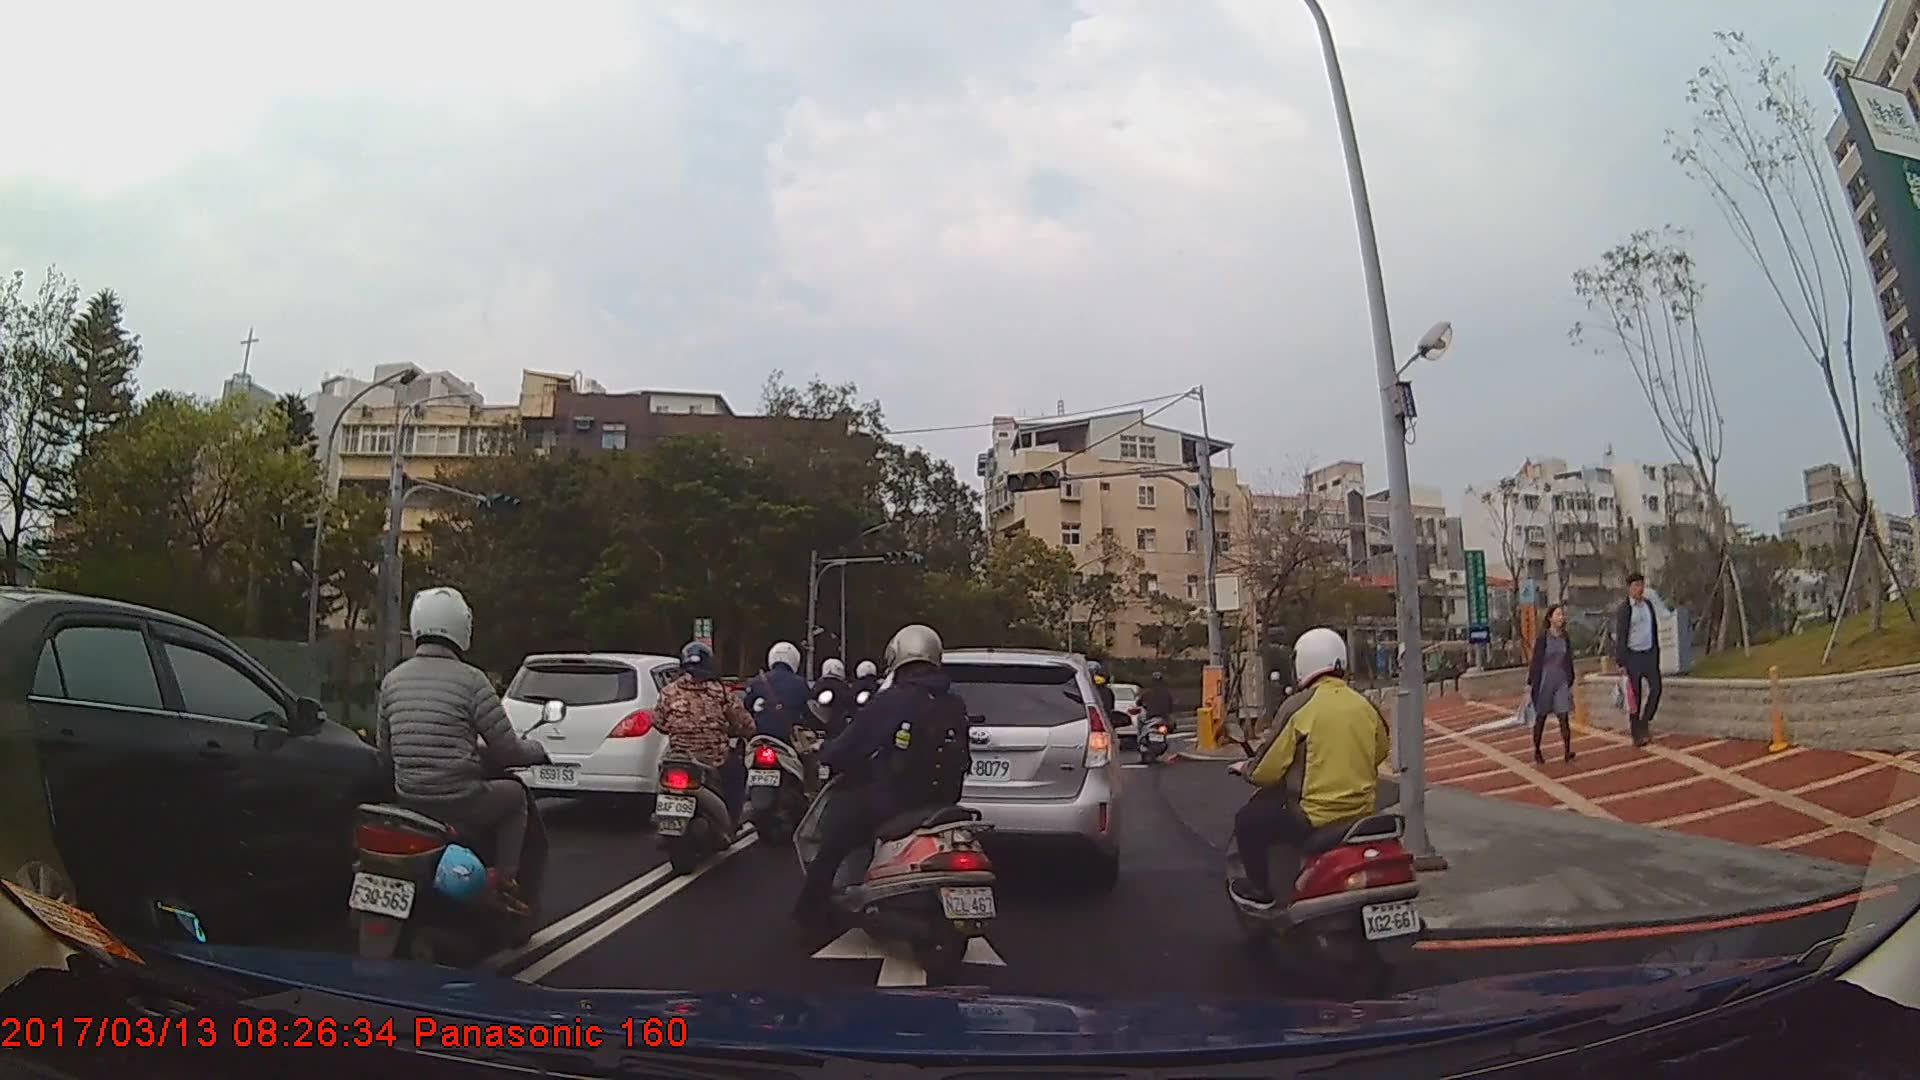pedestrian: (1609, 576, 1676, 748), (1517, 604, 1584, 772)
rider: (342, 584, 557, 986), (1224, 631, 1434, 994), (792, 625, 1002, 984), (649, 642, 755, 880), (735, 636, 829, 843), (809, 657, 863, 797), (1139, 672, 1178, 760)
vehicle: (0, 585, 415, 953), (850, 646, 1120, 884), (490, 651, 750, 822)
